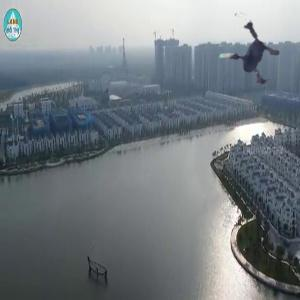drone: (191, 4, 291, 104)
